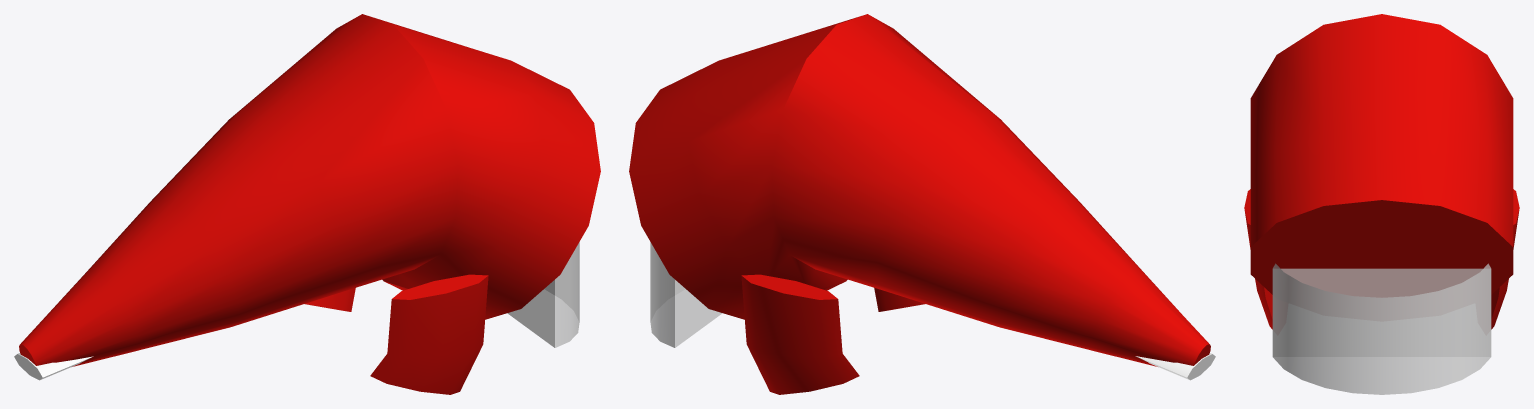
The model's file is helmet_tt.glb.
The picture shows the model from 3 angles, left to right: view 1: azimuth 30°, elevation 25°; view 2: azimuth 150°, elevation 25°; view 3: azimuth 270°, elevation 25°; orthographic projection. The views are drawn at different scales.
Parts seen in each view (by area): view 1: Helmet_TT; view 2: Helmet_TT; view 3: Helmet_TT.
Part boxes in pixels (left/top/right/bottom): Helmet_TT: left=14, top=14, right=600, bottom=394; Helmet_TT: left=629, top=14, right=1215, bottom=394; Helmet_TT: left=1244, top=14, right=1519, bottom=394.
Size of the model in its own units: 0.3949 by 0.2279 by 0.1799.
